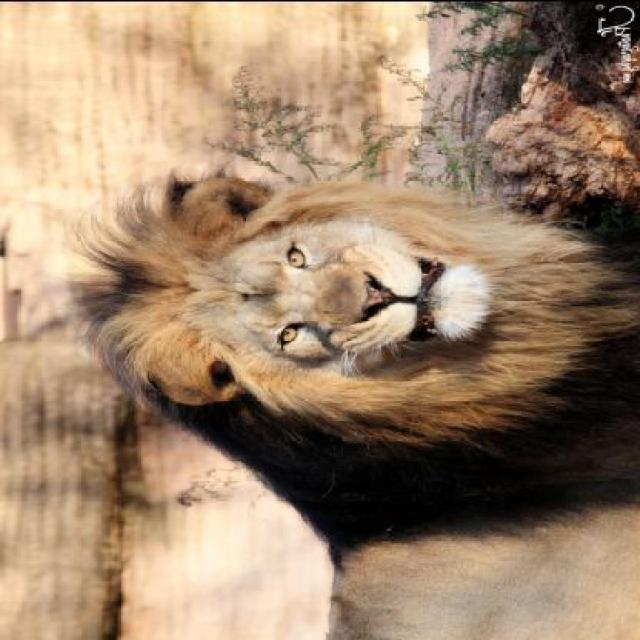Lion: (49, 157, 638, 638)
